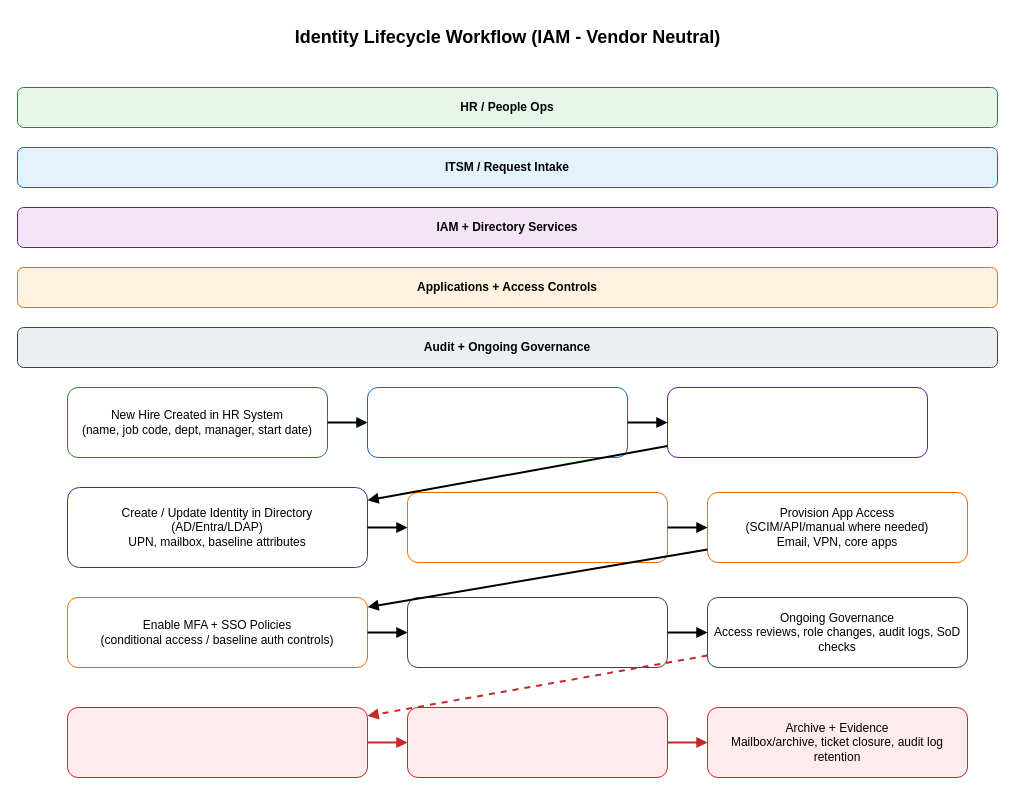
The diagram is 1015 pixels wide and 795 high, and some of its shapes have lost their labels. Here are the shapes that lost their labels. From the top down, the centre of each, then its label:
At pixel 497 422: "Access Request / Ticket Created (automatic or requested by manager)".
At pixel 797 422: "IAM Provisioning Trigger (HR-driven event or approved request)".
At pixel 537 527: "Assign RBAC Groups / Roles (dept + job role mapped to entitlements)".
At pixel 537 632: "Notify User + Manager (access ready, onboarding steps, MFA enrollment)".
At pixel 217 742: "Offboarding Trigger (termination / transfer / leave)".
At pixel 537 742: "Deprovision Access Disable account, revoke sessions/tokens, remove roles".
